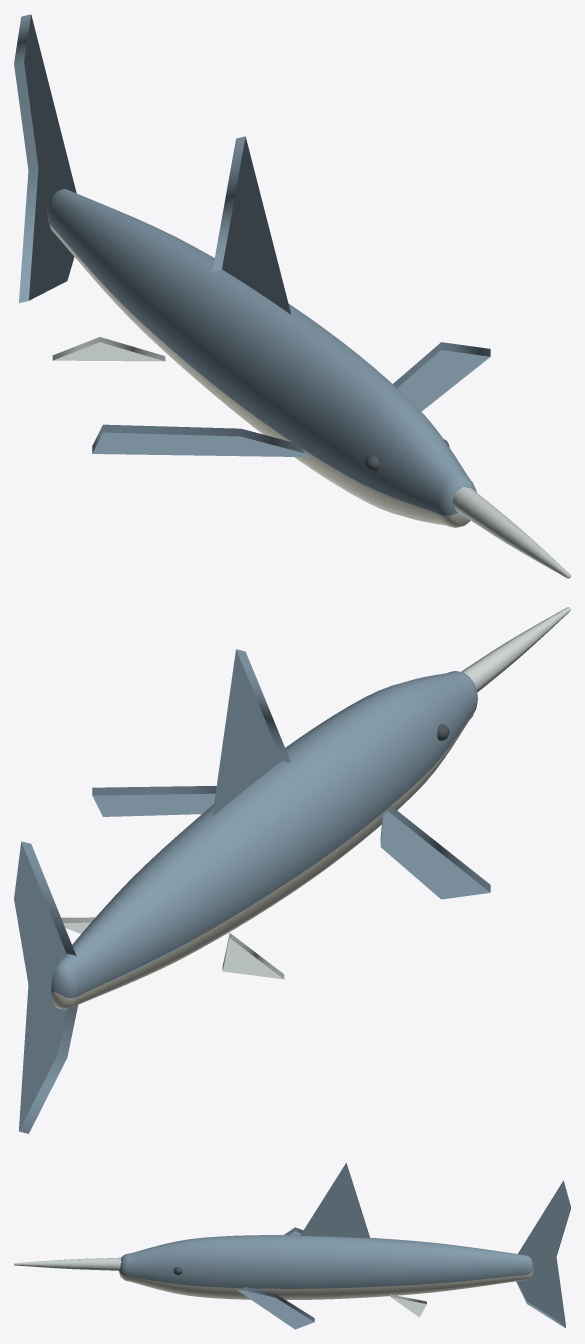
The model's file is ocean_marlin.glb.
3 views of the same model, one above another, from view 1: azimuth 30°, elevation 25°; view 2: azimuth 150°, elevation 25°; view 3: azimuth 270°, elevation 25° (orthographic). The views are drawn at different scales.
Parts seen in each view (by area): view 1: blue-marlin; view 2: blue-marlin; view 3: blue-marlin.
Boxes of the visible parts, left/top/right/bottom form: blue-marlin: left=14, top=14, right=570, bottom=578; blue-marlin: left=14, top=607, right=570, bottom=1133; blue-marlin: left=14, top=1162, right=570, bottom=1329.
Bounding box in the file's own units: 1.42 × 1.1 × 3.4.
